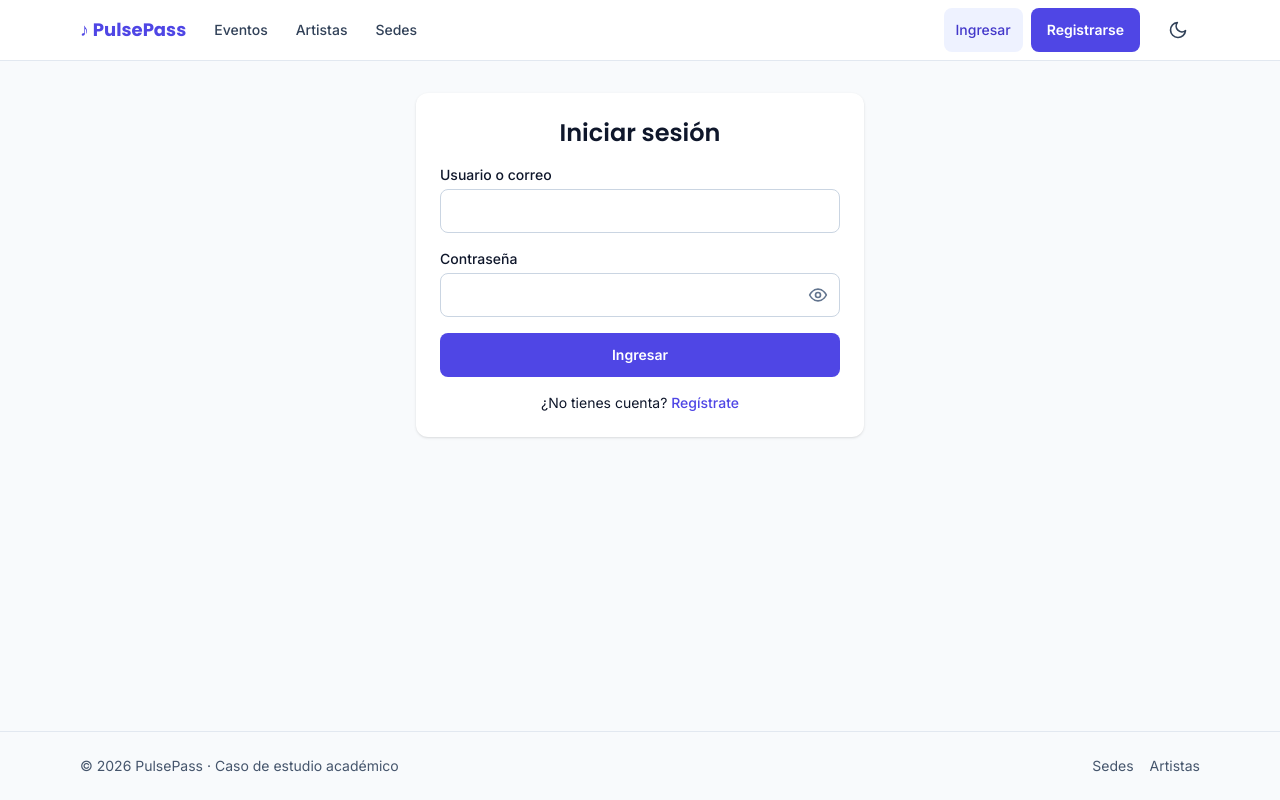
Test case: Autenticación › TEST-FE-AUTH-001: login válido → sesión autenticada y vuelve a la ruta de origen
Expected: the heading "Iniciar sesión" is shown, [560,116,720,149]
Type "andrea" into the field labelled "Usuario o correo". click: (640, 211)
box: [440,189,840,233]
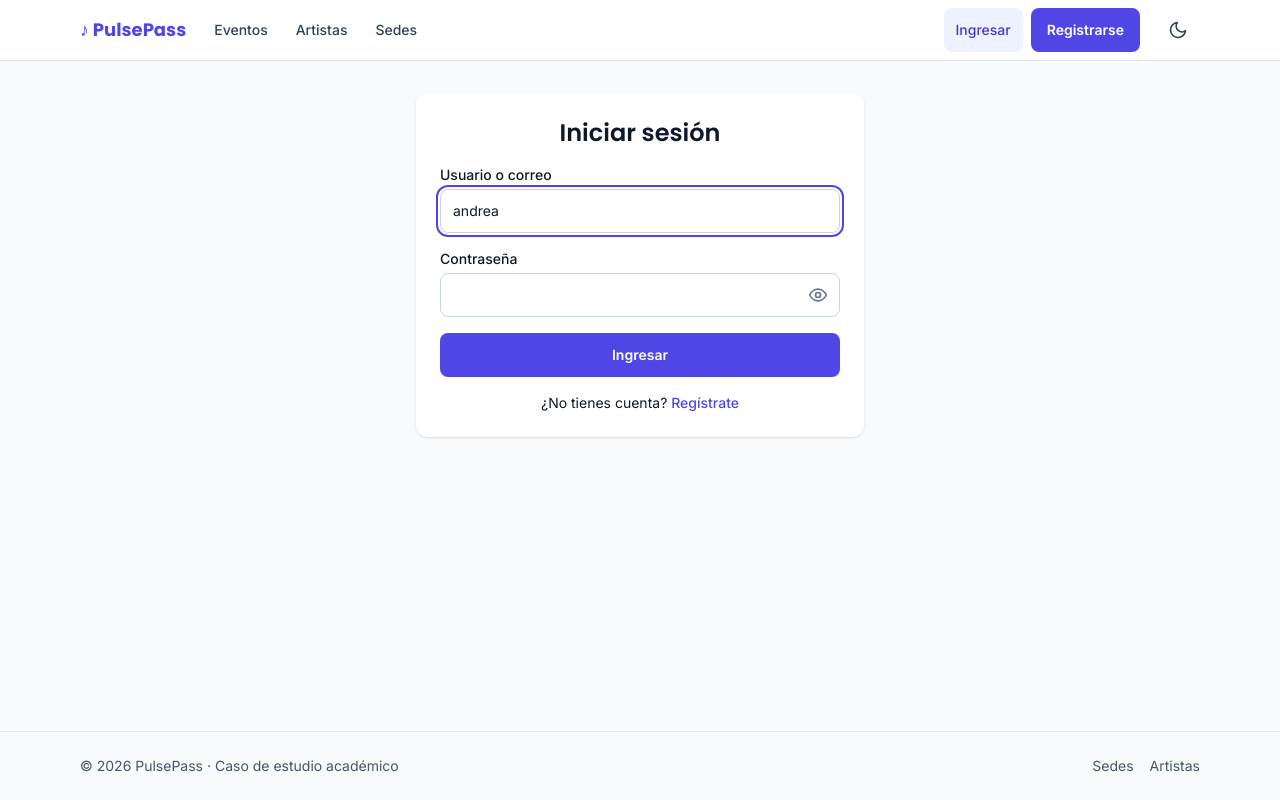
Type "ClaveSegura123" into the password field labelled "Contraseña". click: (640, 295)
box: [440,273,840,317]
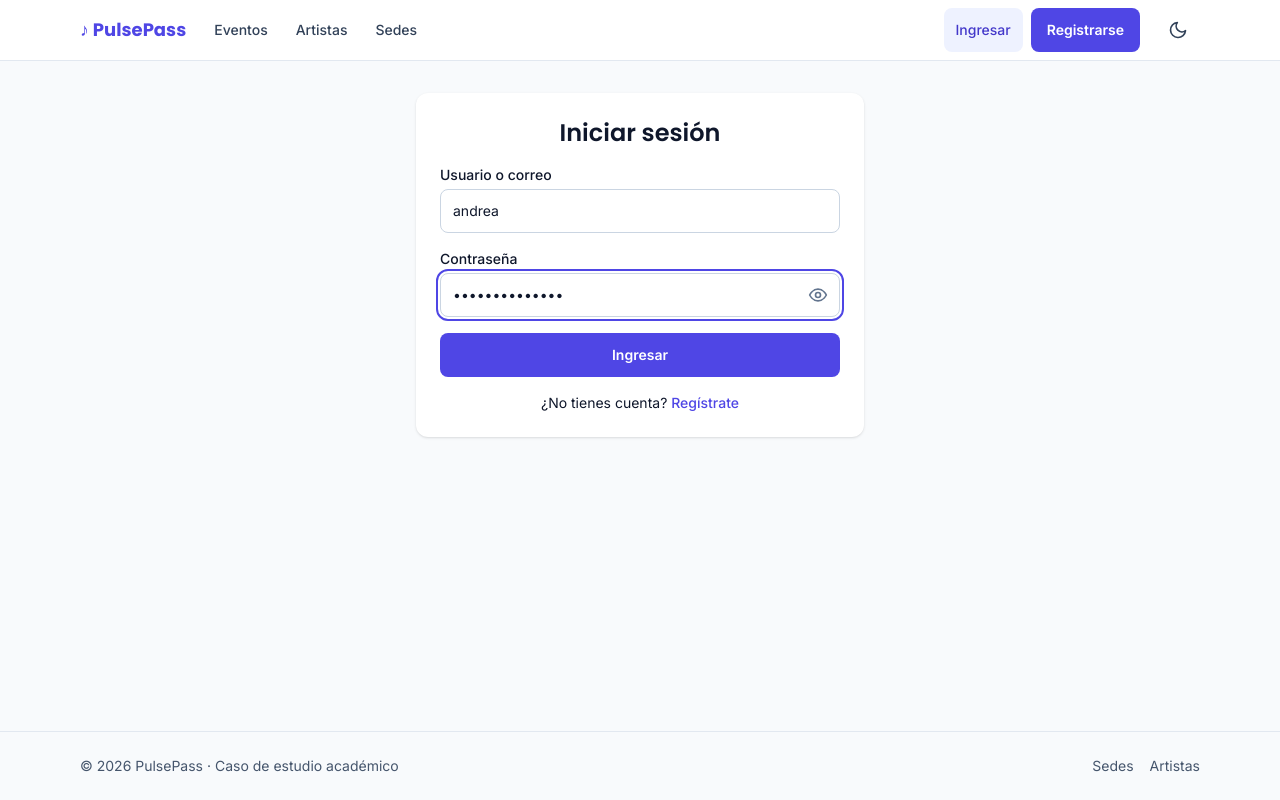
Click the button "Ingresar". click: (640, 355)
box: [440,333,840,377]
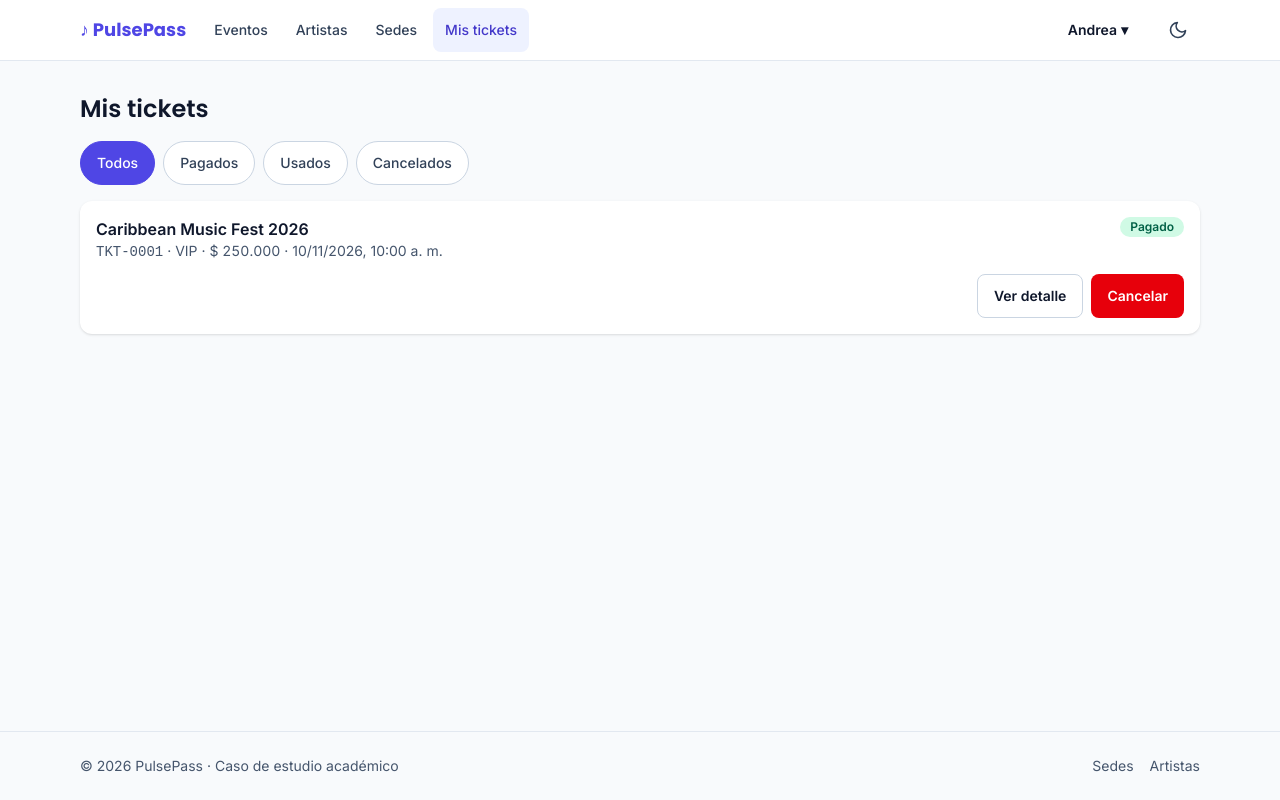
Expected: the heading "Mis tickets" is shown, [80,92,209,125]
